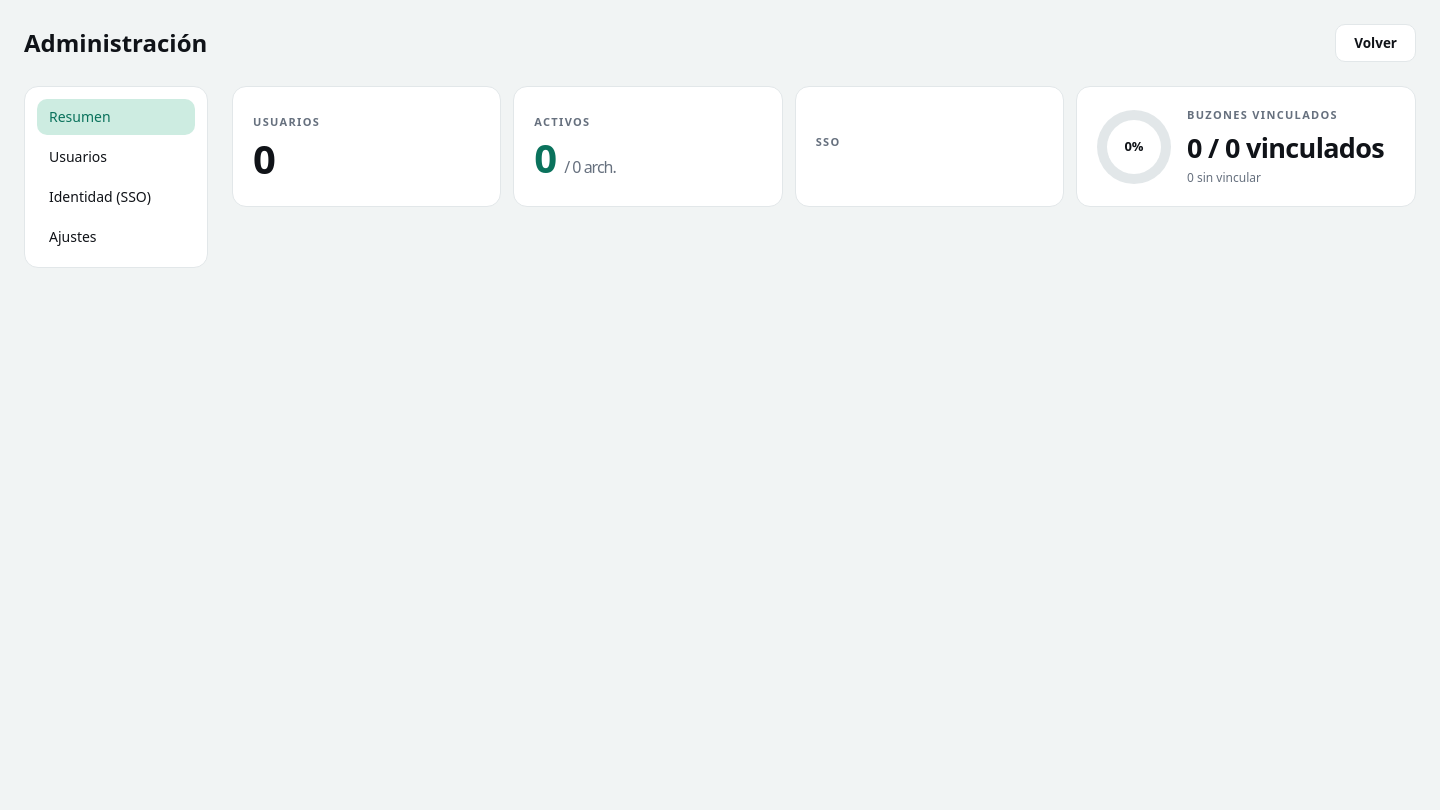
it: AdminPage users table server-driven pagination and search › filters via the search input (server-side) and resets to the first page
Click the button "Usuarios".
click(116, 157)  # box [37,139,195,175]
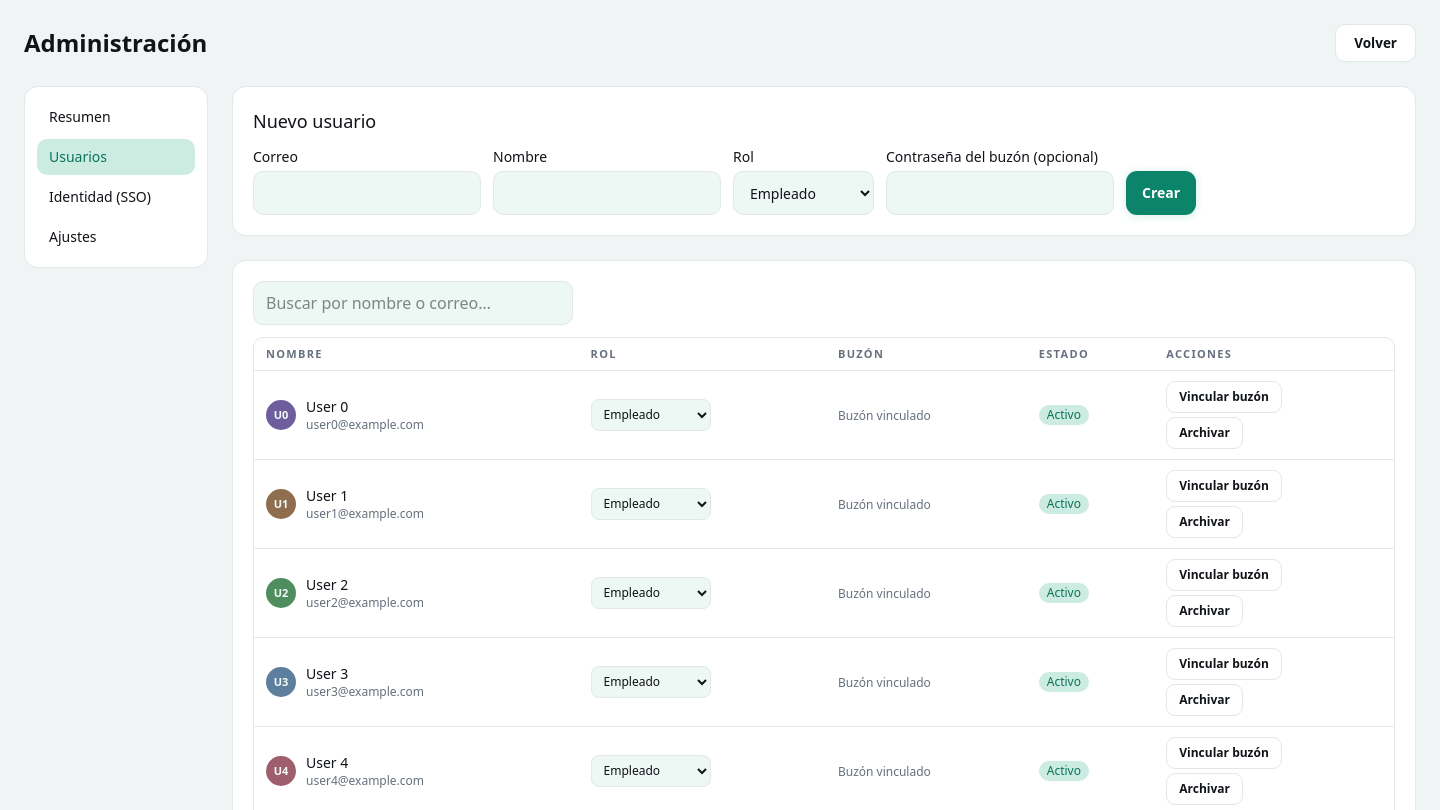
Check: the text "user0@example.com" is shown, box [306,417,424,433]
Type "special" into the search field labelled "Buscar por nombre o correo…".
click(413, 303); type("special")  # box [253,281,573,325]
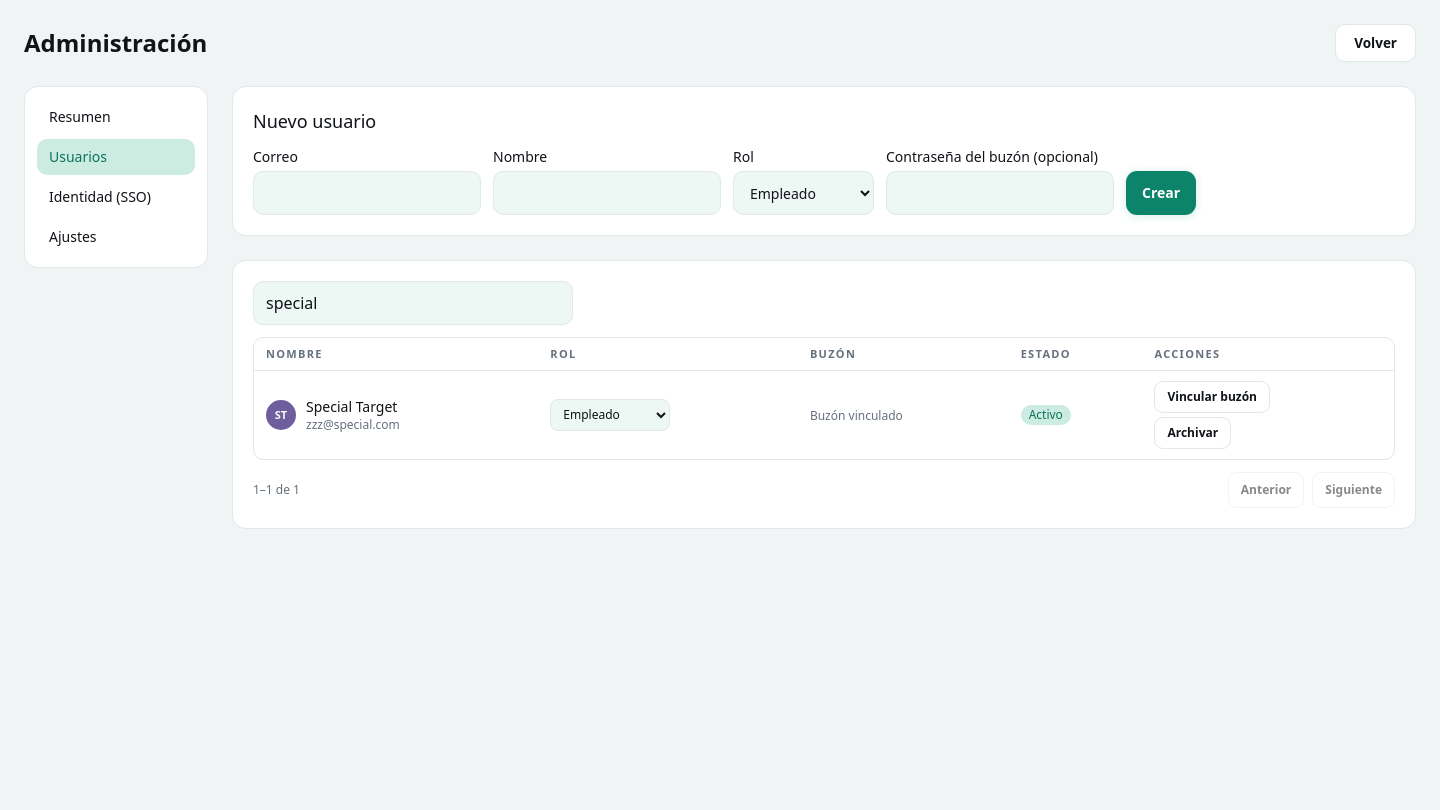
Check: the text "zzz@special.com" is shown, box [306,417,400,433]
Check: the text "user0@example.com" is gone
